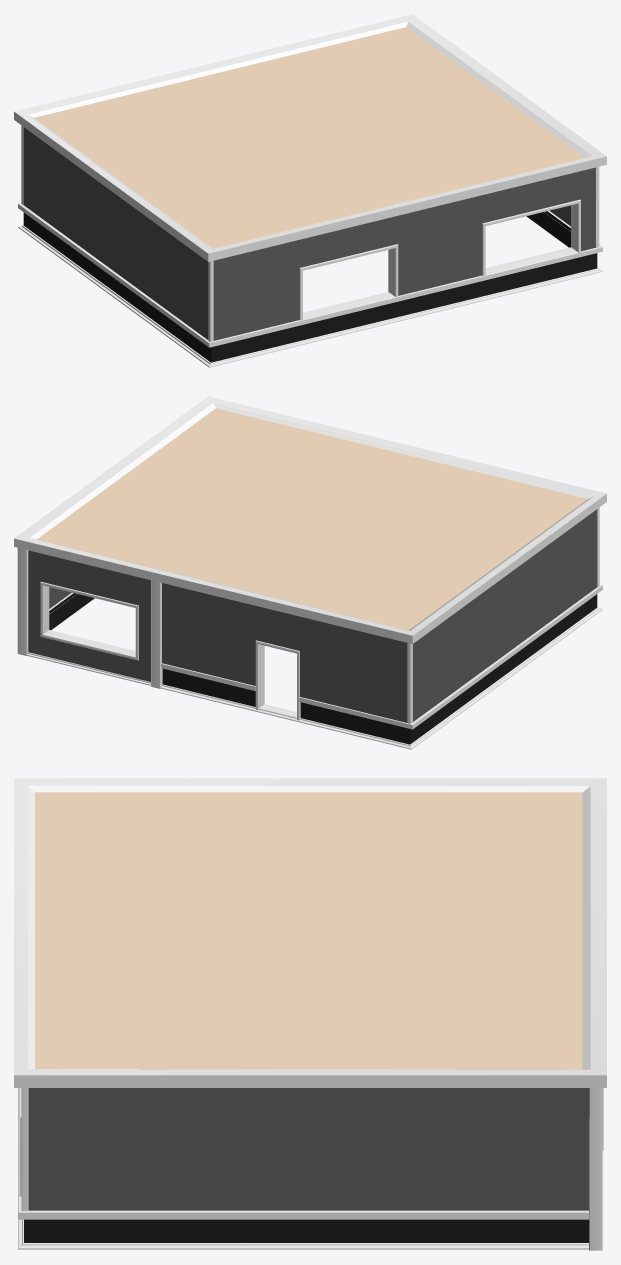
File: SM_H_Building_Industrial_ControlRoom_02_ExterWall_01_ATLAS.fbx
3 views of the same model, one above another, from view 1: azimuth 30°, elevation 25°; view 2: azimuth 150°, elevation 25°; view 3: azimuth 270°, elevation 25° (orthographic). The views are drawn at different scales.
Parts seen in each view (by area): view 1: SM_H_Building_Industrial_ControlRoom_02_ExterWall_01_ATLAS; view 2: SM_H_Building_Industrial_ControlRoom_02_ExterWall_01_ATLAS; view 3: SM_H_Building_Industrial_ControlRoom_02_ExterWall_01_ATLAS.
Boxes of the visible parts, bbox=[...] form: SM_H_Building_Industrial_ControlRoom_02_ExterWall_01_ATLAS: bbox=[14, 14, 606, 367]; SM_H_Building_Industrial_ControlRoom_02_ExterWall_01_ATLAS: bbox=[14, 396, 606, 749]; SM_H_Building_Industrial_ControlRoom_02_ExterWall_01_ATLAS: bbox=[14, 778, 606, 1250].
Bounding box in the file's own units: 1652 × 1394 × 459.
